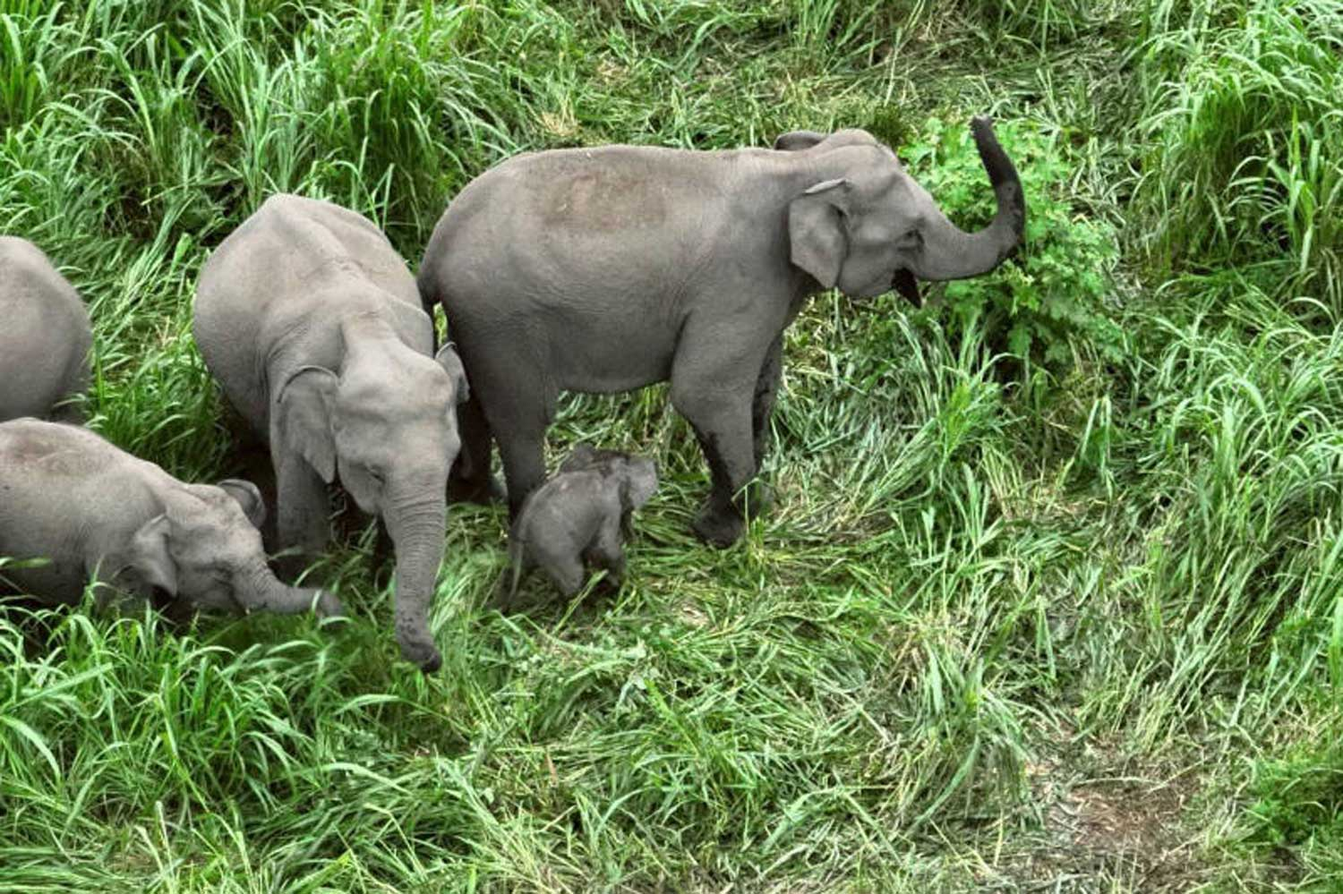Adult Elephant: (426, 77, 1025, 517), (159, 192, 484, 633)
Baby Elephant: (0, 434, 378, 659), (479, 444, 676, 614)
